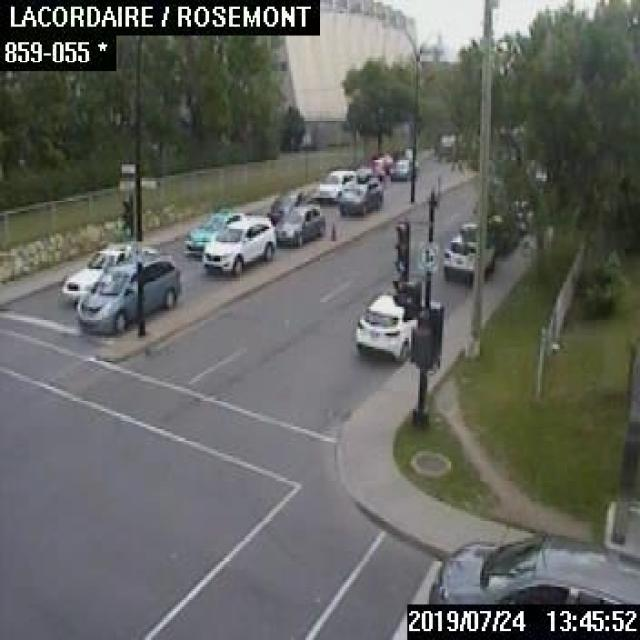vehicle: (429, 531, 638, 607), (76, 251, 179, 333), (62, 242, 156, 298), (201, 212, 274, 272), (354, 291, 415, 362), (442, 221, 494, 278), (182, 207, 242, 253), (273, 201, 324, 245), (338, 169, 383, 215), (268, 189, 312, 220), (317, 168, 356, 198), (389, 157, 415, 180)
